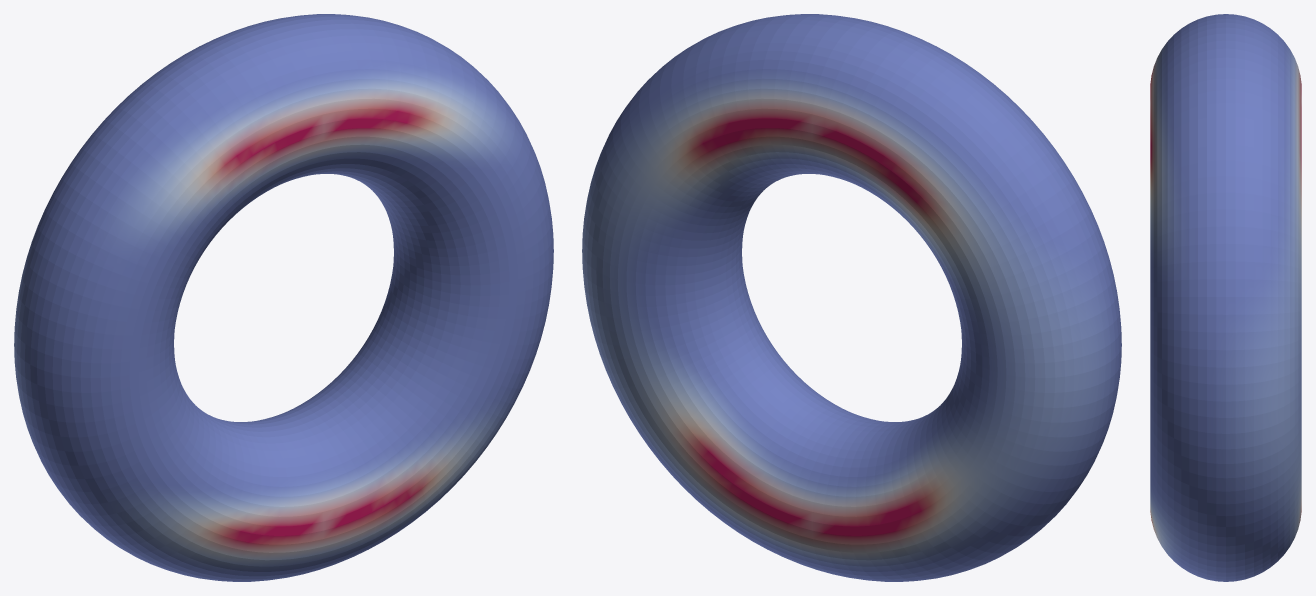
3 views of the same model, side by side, from view 1: azimuth 30°, elevation 25°; view 2: azimuth 150°, elevation 25°; view 3: azimuth 270°, elevation 25° (orthographic). The views are drawn at different scales.
Visible parts, largest first — view 1: world; view 2: world; view 3: world.
Boxes of the visible parts, box(x1,y1,x2,y2) form: world: box(14, 14, 553, 581); world: box(582, 14, 1121, 581); world: box(1150, 14, 1301, 581).
Bounding box in the file's own units: 15.47 × 15.47 × 4.13.
